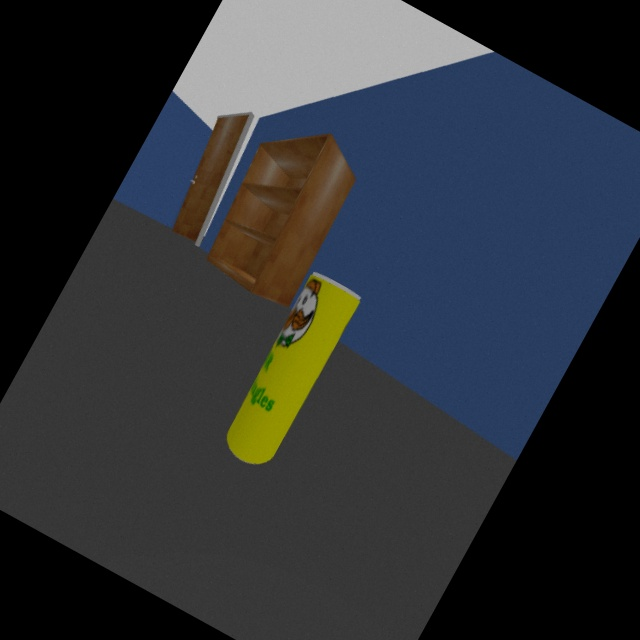chipsdose_gelb: (225, 271, 361, 466)
